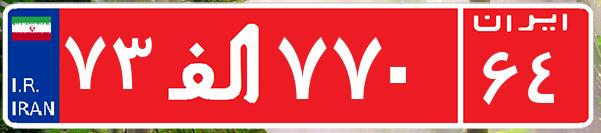0: (385, 28, 445, 110)
3: (110, 28, 158, 105)
4: (525, 38, 570, 115)
6: (475, 38, 525, 113)
7: (273, 28, 330, 110), (330, 28, 385, 110), (57, 26, 110, 107)
الف: (158, 15, 273, 115)
